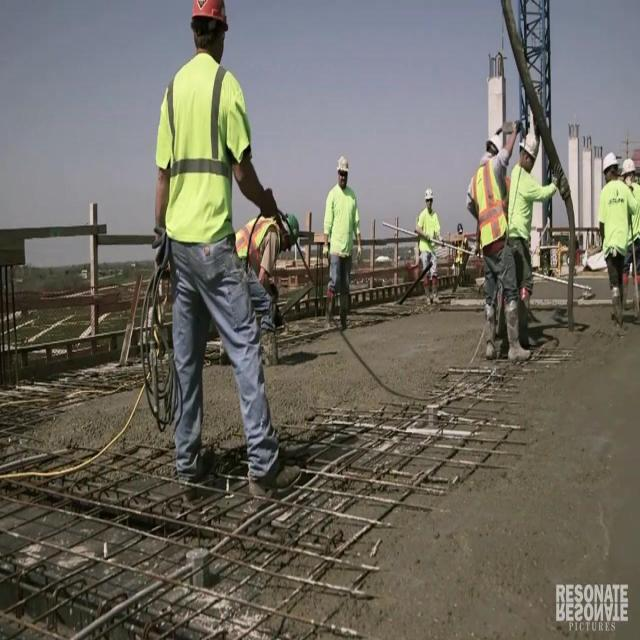Vest: (156, 52, 252, 245), (470, 163, 510, 246), (235, 215, 281, 261)
